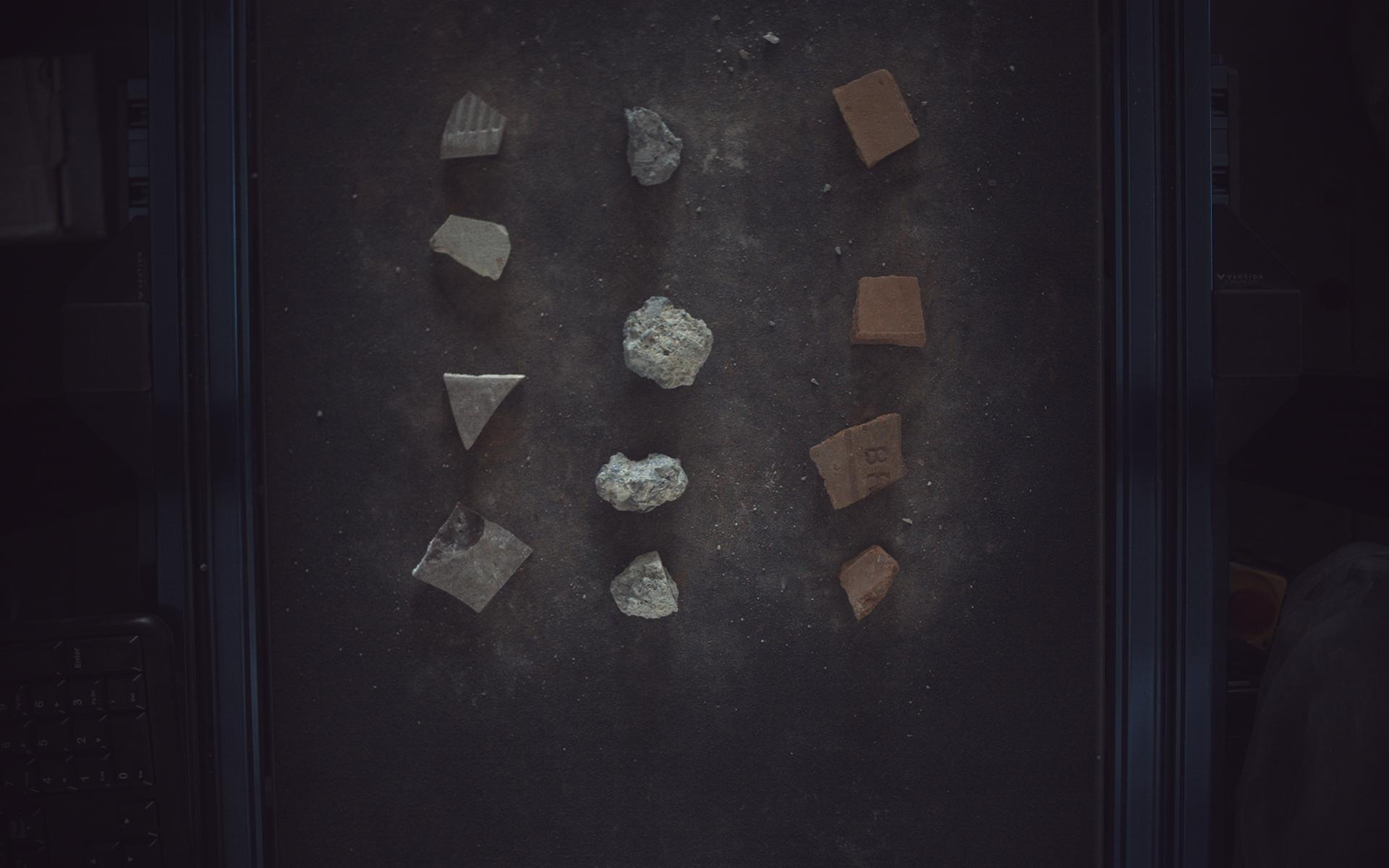brick: (812, 414, 906, 509), (834, 68, 921, 166), (854, 275, 927, 346), (841, 545, 901, 621)
concrete: (624, 296, 714, 388), (597, 453, 689, 512), (625, 106, 684, 185), (611, 552, 679, 619)
tile: (412, 503, 532, 613), (443, 375, 525, 450), (430, 213, 511, 280), (441, 90, 506, 158)
